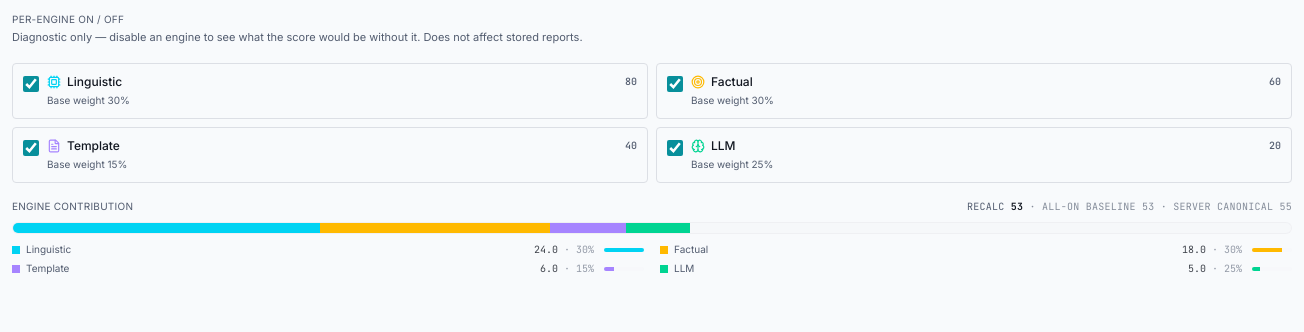
Test: EngineTogglePanel › recomputes the fused score when an engine is toggled off (delta vs all-on baseline)
The image size is (1304, 332).
Click the checkbox with test id "engine-toggle-llm" at coordinates (675, 148), box [667,140,683,156]
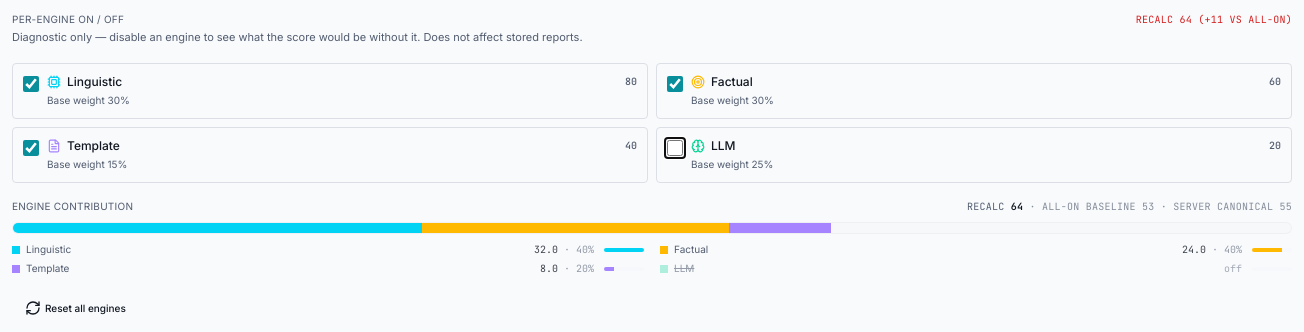
Expected: the text with test id "engine-toggle-recalc-score" shows "64", [1180,13,1192,26]
Expected: the text with test id "engine-toggle-recalc-score" shows "+11", [1136,12,1292,27]
Expected: the text with test id "engine-toggle-recalc-score" shows "vs all-on", [1223,13,1292,26]
